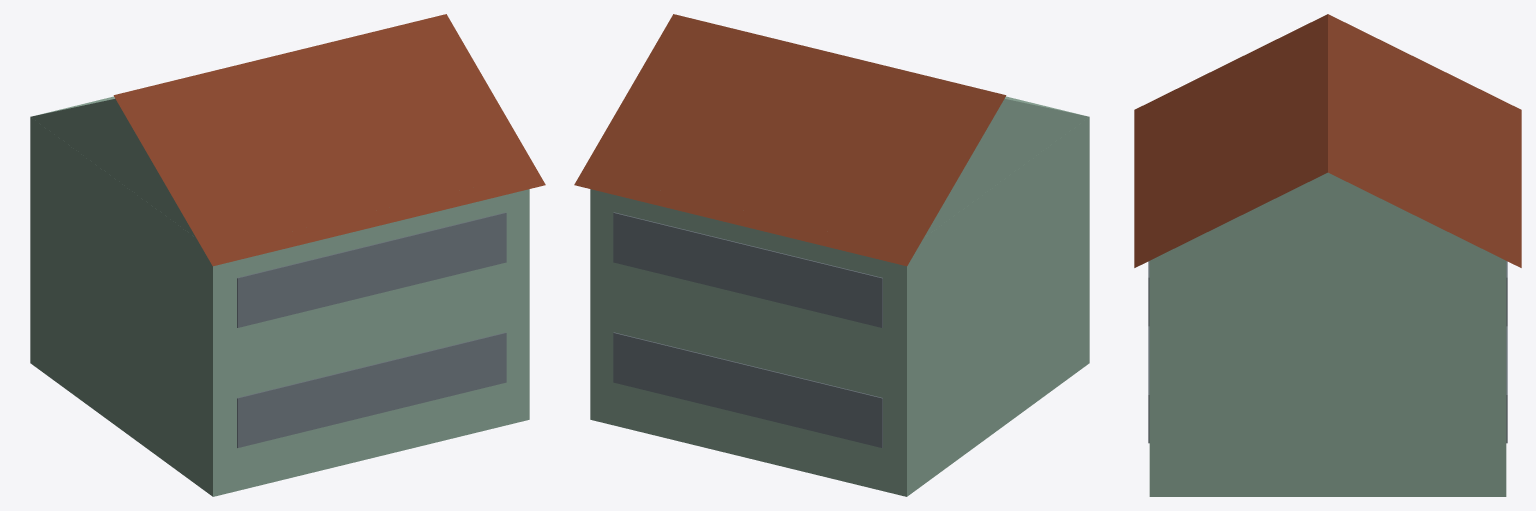
File: cove-house-green.tone-v1.lod2.glb
The picture shows the model from 3 angles, left to right: view 1: azimuth 30°, elevation 25°; view 2: azimuth 150°, elevation 25°; view 3: azimuth 270°, elevation 25°; orthographic projection. The views are drawn at different scales.
Visible parts, largest first — view 1: cove-house-green; view 2: cove-house-green; view 3: cove-house-green.
Boxes of the visible parts, x1=… form: cove-house-green: x1=30, y1=14, x2=545, y2=496; cove-house-green: x1=574, y1=14, x2=1089, y2=496; cove-house-green: x1=1134, y1=14, x2=1521, y2=496.
Size of the model in its own units: 8.42 by 8.13 by 8.7.
